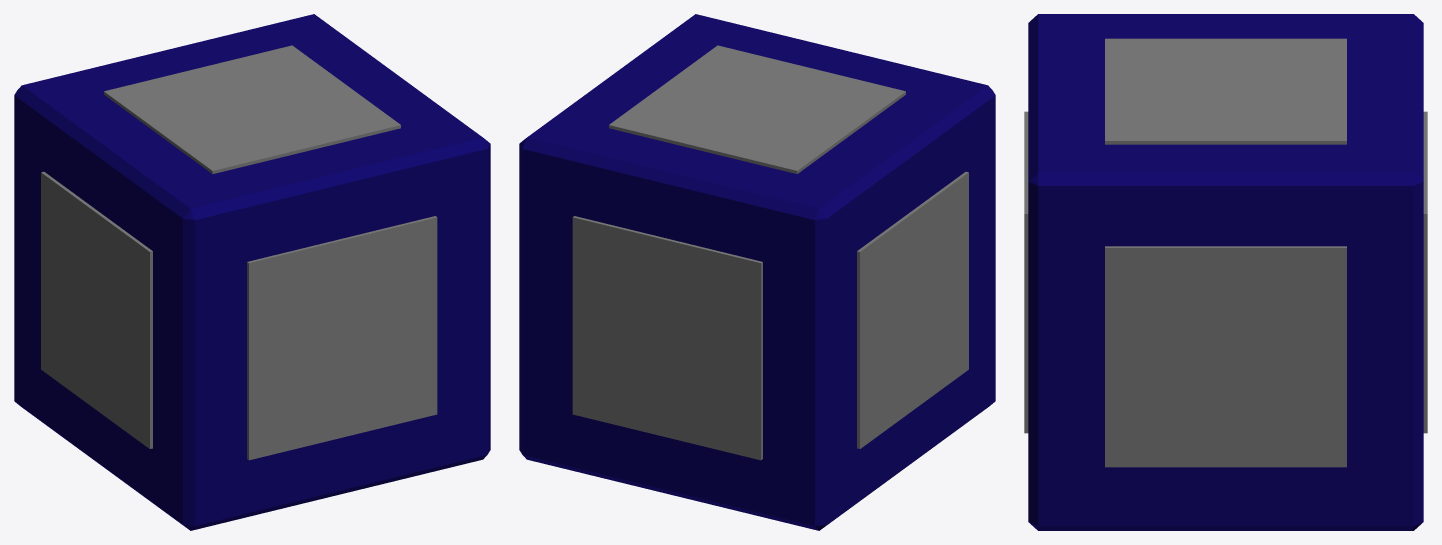
The model's file is stone-11-full.glb.
3 views of the same model, side by side, from view 1: azimuth 30°, elevation 25°; view 2: azimuth 150°, elevation 25°; view 3: azimuth 270°, elevation 25° (orthographic). The views are drawn at different scales.
Parts seen in each view (by area): view 1: center-Cube, y-Cube, x-Cube, z-Cube; view 2: center-Cube, y-Cube, x-Cube, z-Cube; view 3: center-Cube, x-Cube, z-Cube, y-Cube.
Part boxes in pixels (x1,y1,x2,y2): center-Cube: (14, 14, 490, 530); y-Cube: (247, 216, 437, 460); x-Cube: (41, 171, 152, 448); z-Cube: (104, 45, 400, 173); center-Cube: (519, 14, 995, 530); y-Cube: (572, 216, 762, 460); x-Cube: (857, 171, 968, 448); z-Cube: (609, 45, 905, 173); center-Cube: (1028, 14, 1423, 530); x-Cube: (1105, 246, 1346, 467); z-Cube: (1105, 38, 1346, 144); y-Cube: (1024, 111, 1427, 433).
Size of the model in its own units: 1 by 1 by 1.
